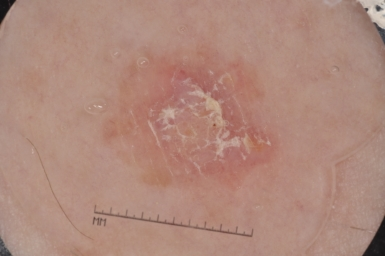seborrheic keratosis: (81, 45, 296, 192)
